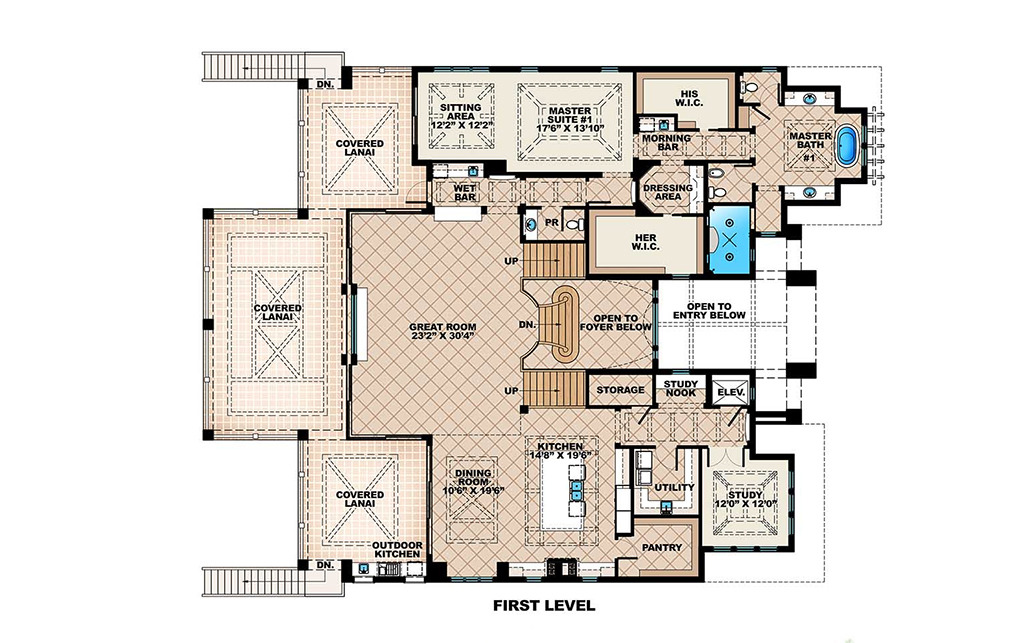door: (582, 179, 610, 205), (405, 180, 431, 207)
large_sink: (562, 216, 589, 236), (703, 183, 729, 203), (736, 79, 759, 95)
small_sink: (520, 205, 540, 240)
stairs: (196, 50, 344, 89), (198, 562, 346, 597), (537, 283, 582, 366), (503, 240, 589, 281), (503, 370, 587, 410)
tub: (833, 119, 863, 171)
twin_sink: (567, 477, 582, 500)
windows: (344, 292, 360, 360), (711, 542, 778, 556), (787, 469, 797, 536), (448, 575, 493, 586)
